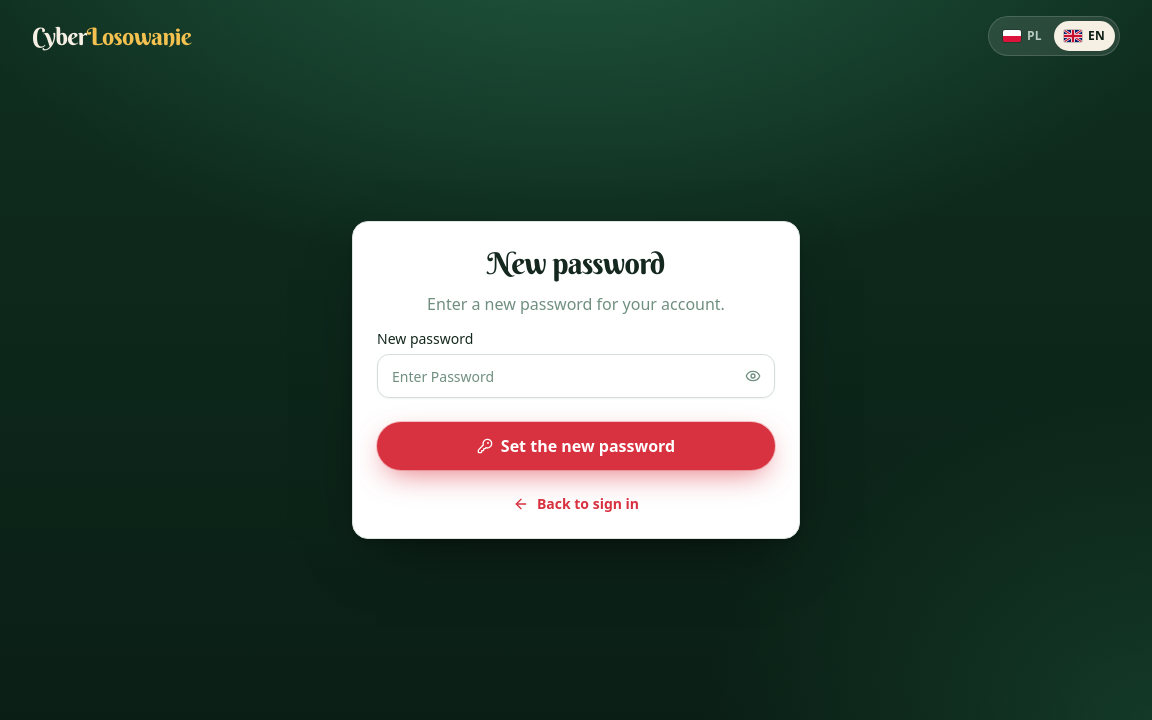
Test: ResetPassword › shows the server password rules and keeps the form
In the password field labelled "New password": (576, 376) 377,354 -> 775,398, type "123"
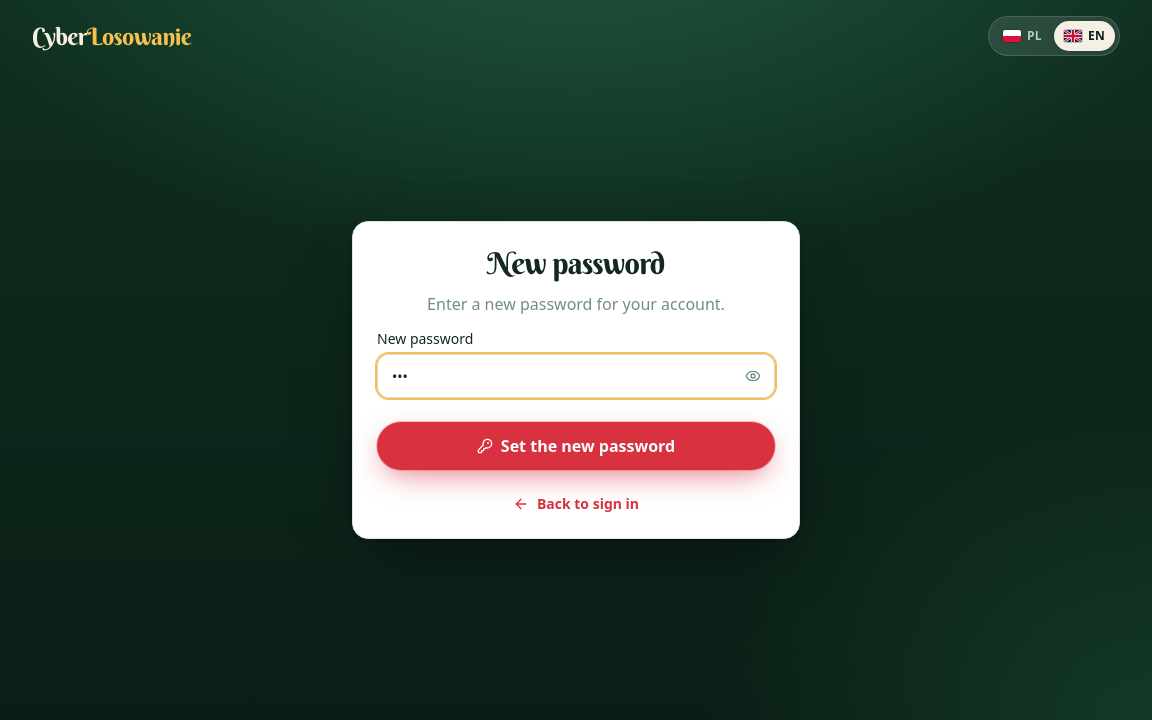
Click the button "Set the new password": (576, 446) 377,422 -> 775,470
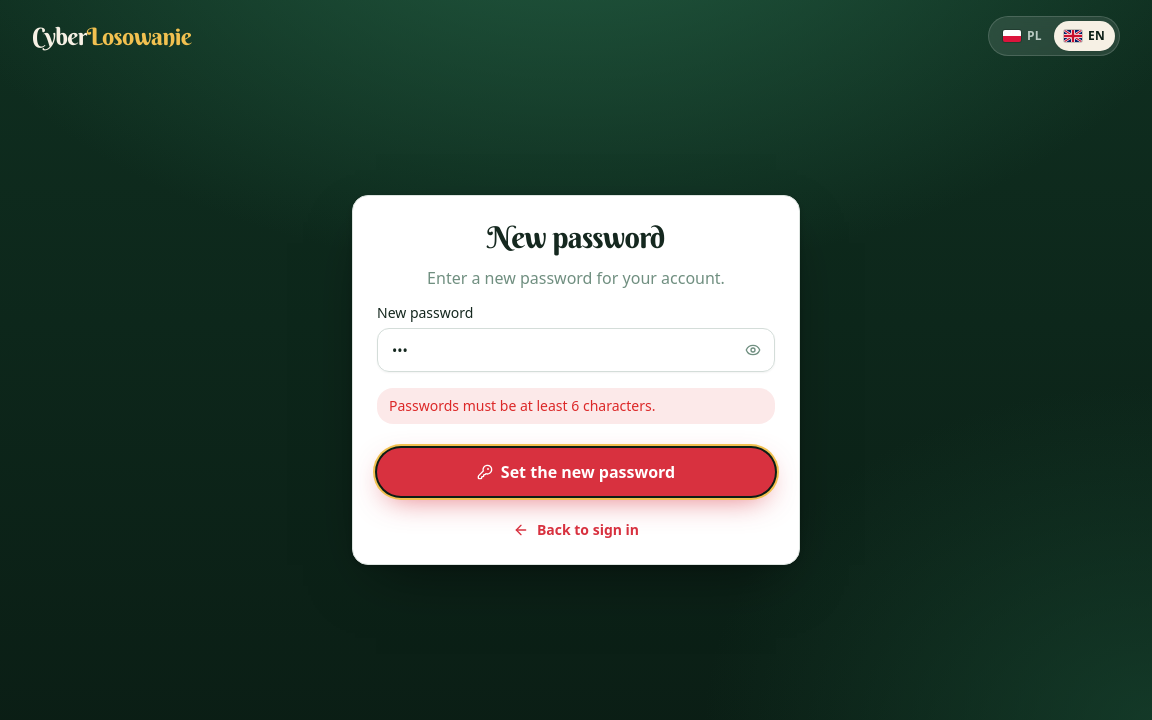
Now the message shows "at least 6 characters", box 389,396 -> 655,415
